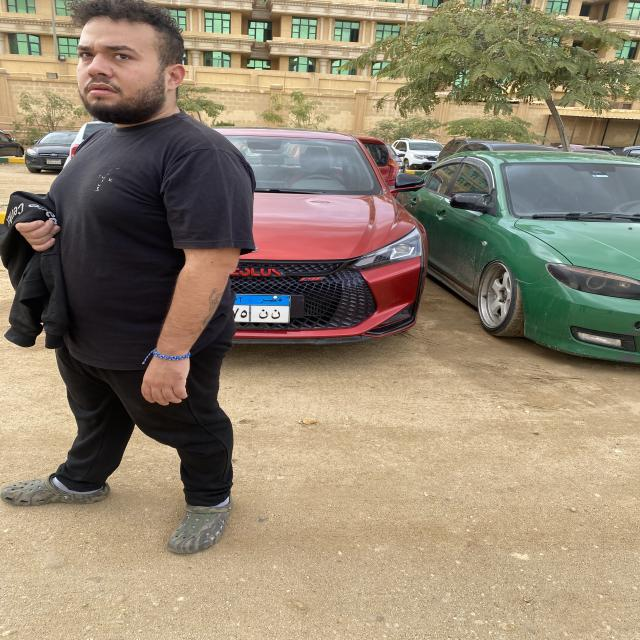License Plate: (235, 294, 289, 323), (47, 159, 61, 164)
